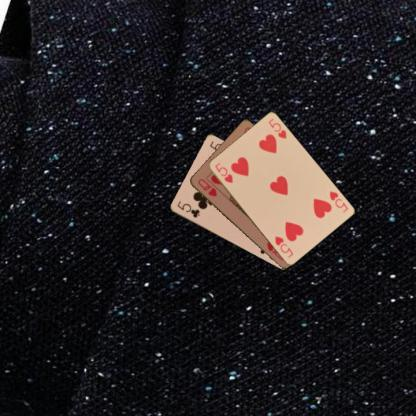5c: (174, 198, 200, 219)
5h: (326, 188, 349, 214), (212, 160, 234, 184)
Qh: (195, 176, 218, 198)
